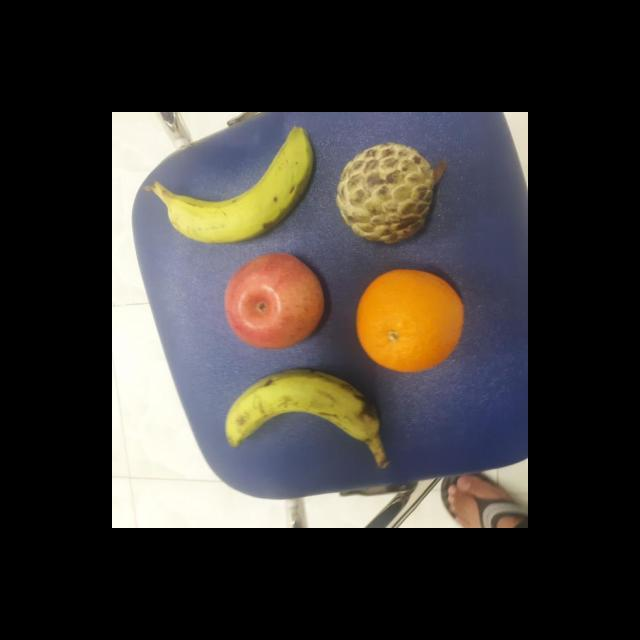Sakya fruit: (333, 140, 438, 244)
apple: (223, 249, 327, 353)
banana: (152, 124, 322, 244), (218, 368, 386, 448)
orange: (354, 266, 468, 372)
